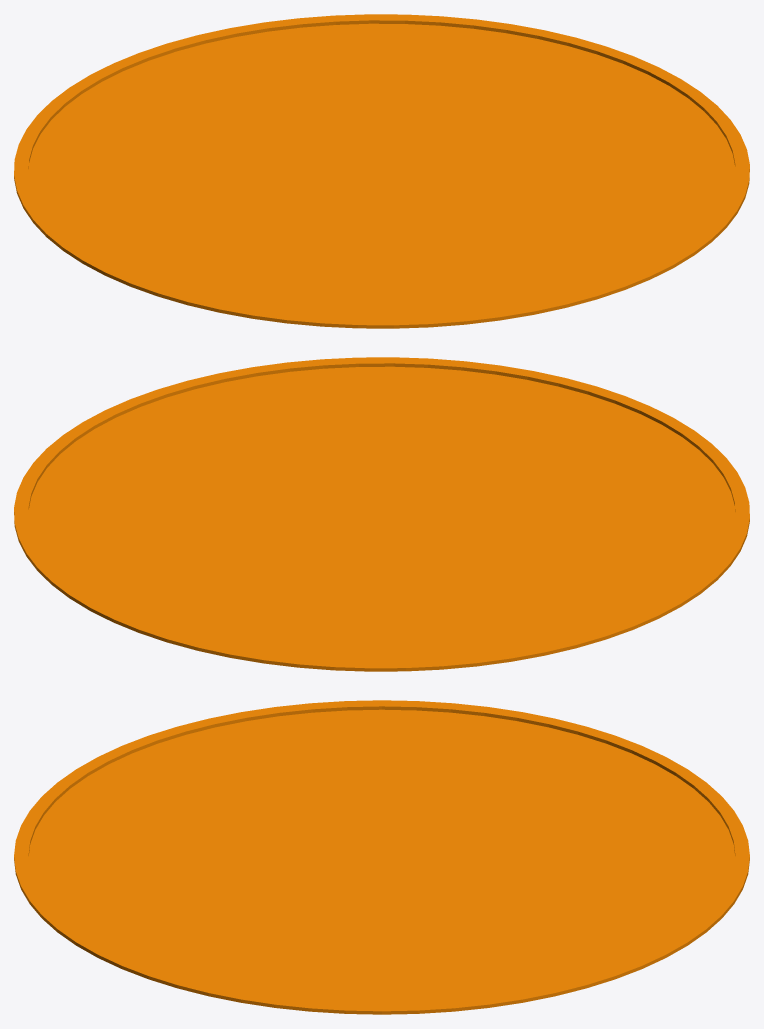
The model's file is Coin.fbx.
The picture shows the model from 3 angles, top to bottom: view 1: azimuth 30°, elevation 25°; view 2: azimuth 150°, elevation 25°; view 3: azimuth 270°, elevation 25°; orthographic projection.
Visible parts, largest first — view 1: Circle; view 2: Circle; view 3: Circle.
Part boxes in pixels (bbox=[...]): Circle: bbox=[14, 14, 749, 328]; Circle: bbox=[14, 357, 749, 671]; Circle: bbox=[14, 700, 749, 1014].
Size of the model in its own units: 64.05 by 0.3668 by 64.05.
